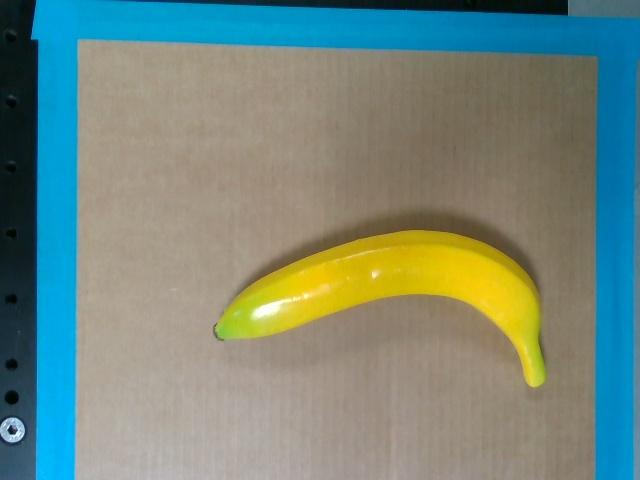banana: (215, 229, 546, 386)
